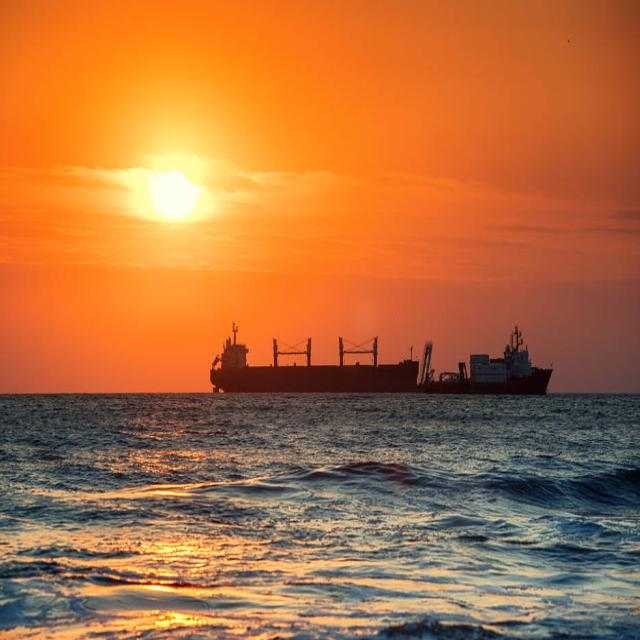cargoship: (203, 310, 567, 426)
